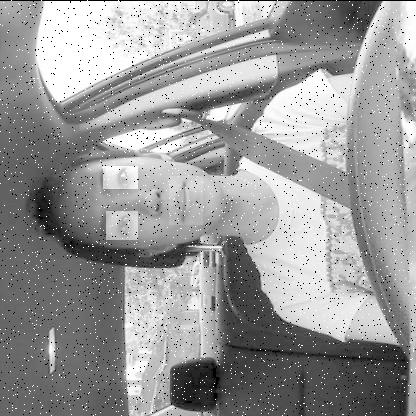seatbelt: (28, 137, 346, 273)
